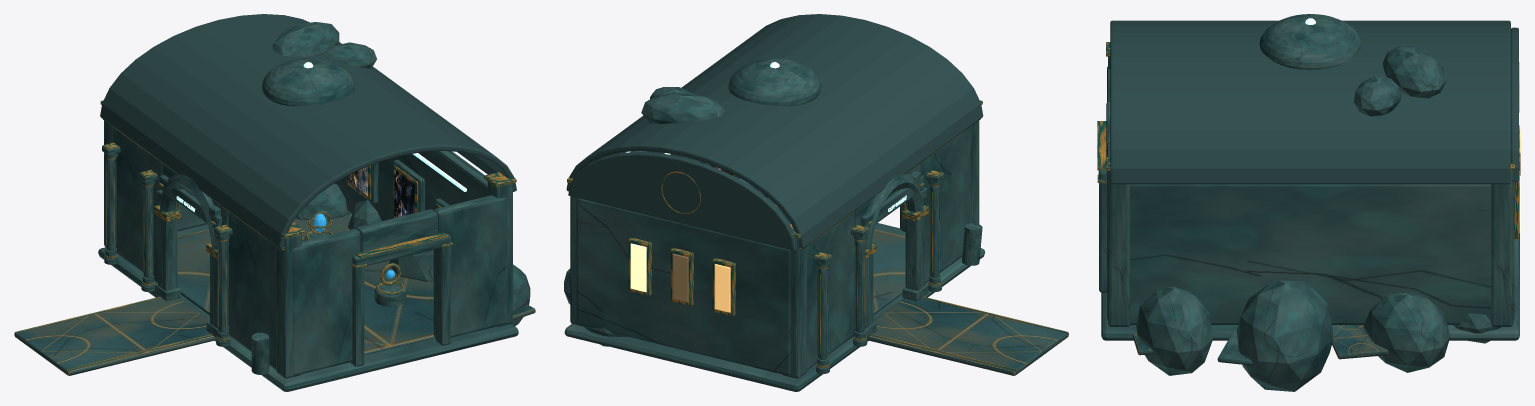
Rendered from atlantis-cliff-gallery.glb.
3 renders of one model, left to right at view 1: azimuth 30°, elevation 25°; view 2: azimuth 150°, elevation 25°; view 3: azimuth 270°, elevation 25°, orthographic. The views are drawn at different scales.
Parts seen in each view (by area): view 1: CliffGallery_BarrelRoof, CliffGallery_Bridge, CliffGallery_RearWallSegment_0, CliffGallery_RearWallSegment_1, CliffGallery_InteriorFloor, CliffGallery_FacadePier_0, CliffGallery_Foundation, CliffGallery_RearWall, CliffGallery_FacadePier_1, CliffGallery_LanternDome, ColumnShaft_mesh (×3), CliffGallery_CornerButtress_00 (+19 smaller); view 2: CliffGallery_BarrelRoof, CliffGallery_SideWall_1, CliffGallery_NorthTympanum, CliffGallery_Bridge, CliffGallery_Foundation, CliffGallery_FacadePier_1, CliffGallery_FacadePier_0, CliffGallery_LanternDome, CliffGallery_InteriorFloor, ColumnShaft_mesh (×3), CliffGallery_CornerButtress_01, CliffGallery_RoofCollapseStone_A (+13 smaller); view 3: CliffGallery_BarrelRoof, CliffGallery_RearWall, CliffGallery_CliffOutcrop_01, CliffGallery_CliffOutcrop_00, CliffGallery_CliffOutcrop_02, CliffGallery_LanternDome, CliffGallery_CornerButtress_02, CliffGallery_CornerButtress_03, CliffGallery_RoofCollapseStone_A, CliffGallery_Foundation, CliffGallery_RoofCollapseStone_B, CliffGallery_BrokenTerraceSlab_02 (+5 smaller).
Boxes of the visible parts, x1,y1,x2,y2 form: CliffGallery_BarrelRoof: (100,14,516,248); CliffGallery_Bridge: (14,298,216,375); CliffGallery_RearWallSegment_0: (292,229,360,375); CliffGallery_RearWallSegment_1: (433,195,506,337); CliffGallery_InteriorFloor: (177,214,434,355); CliffGallery_FacadePier_0: (228,212,276,369); CliffGallery_Foundation: (98,214,518,391); CliffGallery_RearWall: (334,151,487,220); CliffGallery_FacadePier_1: (113,127,162,283); CliffGallery_LanternDome: (262,58,354,106); ColumnShaft_mesh (×3): (106,158,227,332); CliffGallery_CornerButtress_00: (276,235,301,378); CliffGallery_BarrelRoof: (566,14,983,248); CliffGallery_SideWall_1: (576,198,790,375); CliffGallery_NorthTympanum: (568,152,797,250); CliffGallery_Bridge: (867,298,1068,375); CliffGallery_Foundation: (564,198,985,391); CliffGallery_FacadePier_1: (807,212,854,369); CliffGallery_FacadePier_0: (920,127,970,283); CliffGallery_LanternDome: (728,58,821,106); CliffGallery_InteriorFloor: (775,205,905,315); ColumnShaft_mesh (×3): (818,186,939,359); CliffGallery_CornerButtress_01: (782,238,806,378); CliffGallery_RoofCollapseStone_A: (641,92,724,123); CliffGallery_BarrelRoof: (1110,20,1510,184); CliffGallery_RearWall: (1130,184,1491,324); CliffGallery_CliffOutcrop_01: (1236,280,1333,391); CliffGallery_CliffOutcrop_00: (1136,287,1212,375); CliffGallery_CliffOutcrop_02: (1363,292,1450,372); CliffGallery_LanternDome: (1259,14,1361,70); CliffGallery_CornerButtress_02: (1108,171,1130,326); CliffGallery_CornerButtress_03: (1491,171,1512,326); CliffGallery_RoofCollapseStone_A: (1382,45,1446,98); CliffGallery_Foundation: (1101,233,1519,340); CliffGallery_RoofCollapseStone_B: (1354,76,1401,116); CliffGallery_BrokenTerraceSlab_02: (1332,325,1388,359).
Bounding box in the file's own units: 15.82 × 9.02 × 11.63.
Materials: 18 (13 with a texture image).
